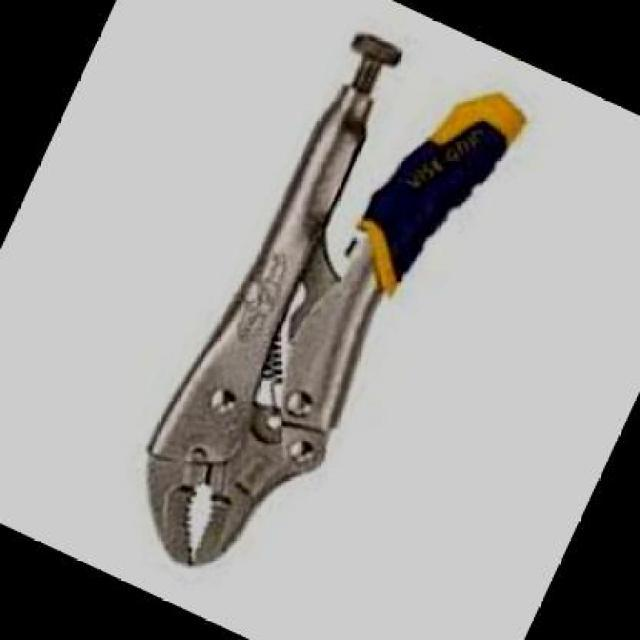pliers: (64, 0, 567, 635)
